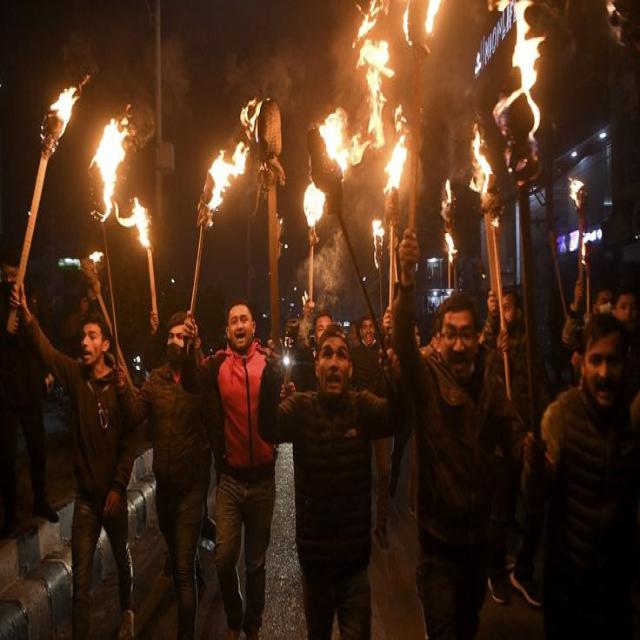fire: (501, 0, 550, 139), (87, 111, 133, 220), (202, 138, 249, 210), (320, 108, 369, 173), (363, 66, 390, 153), (44, 81, 80, 146), (113, 194, 154, 247), (381, 130, 408, 206), (353, 0, 388, 51), (357, 36, 395, 80), (469, 123, 491, 198)
